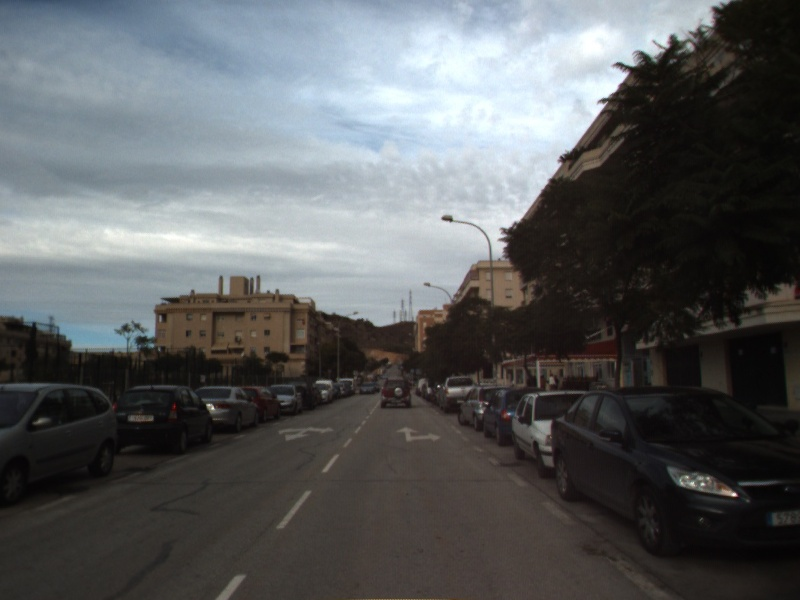STRAIGHT_RIGHT: (394, 424, 443, 444)
